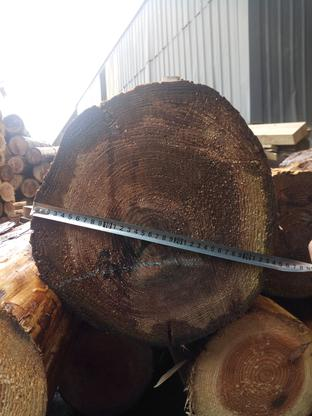mood: (29, 81, 279, 343)
